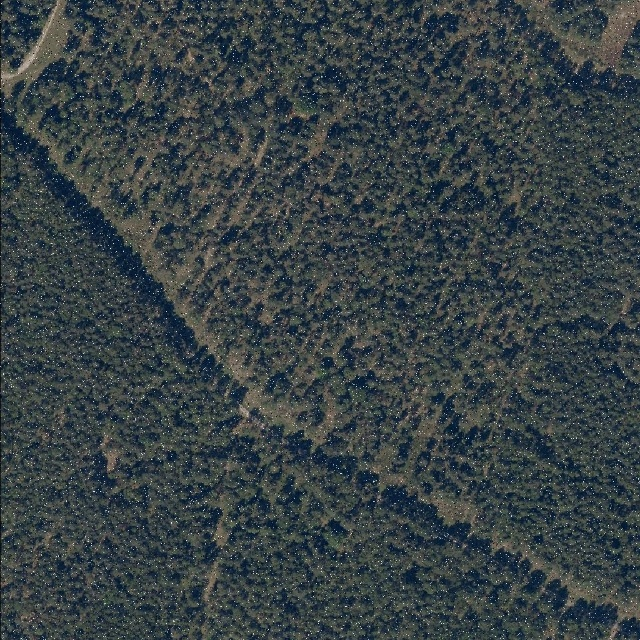vegetation: (15, 0, 639, 608), (2, 116, 640, 639), (1, 1, 53, 73), (550, 2, 605, 44)
